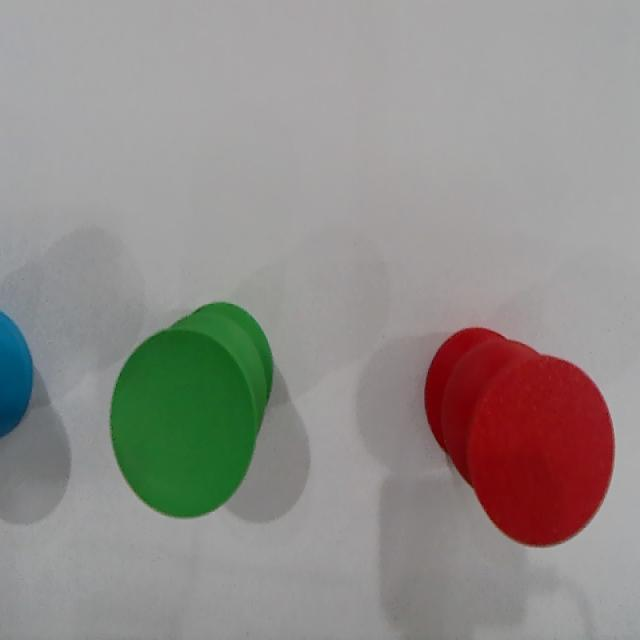g: (111, 329, 254, 517)
r: (468, 354, 615, 548)
